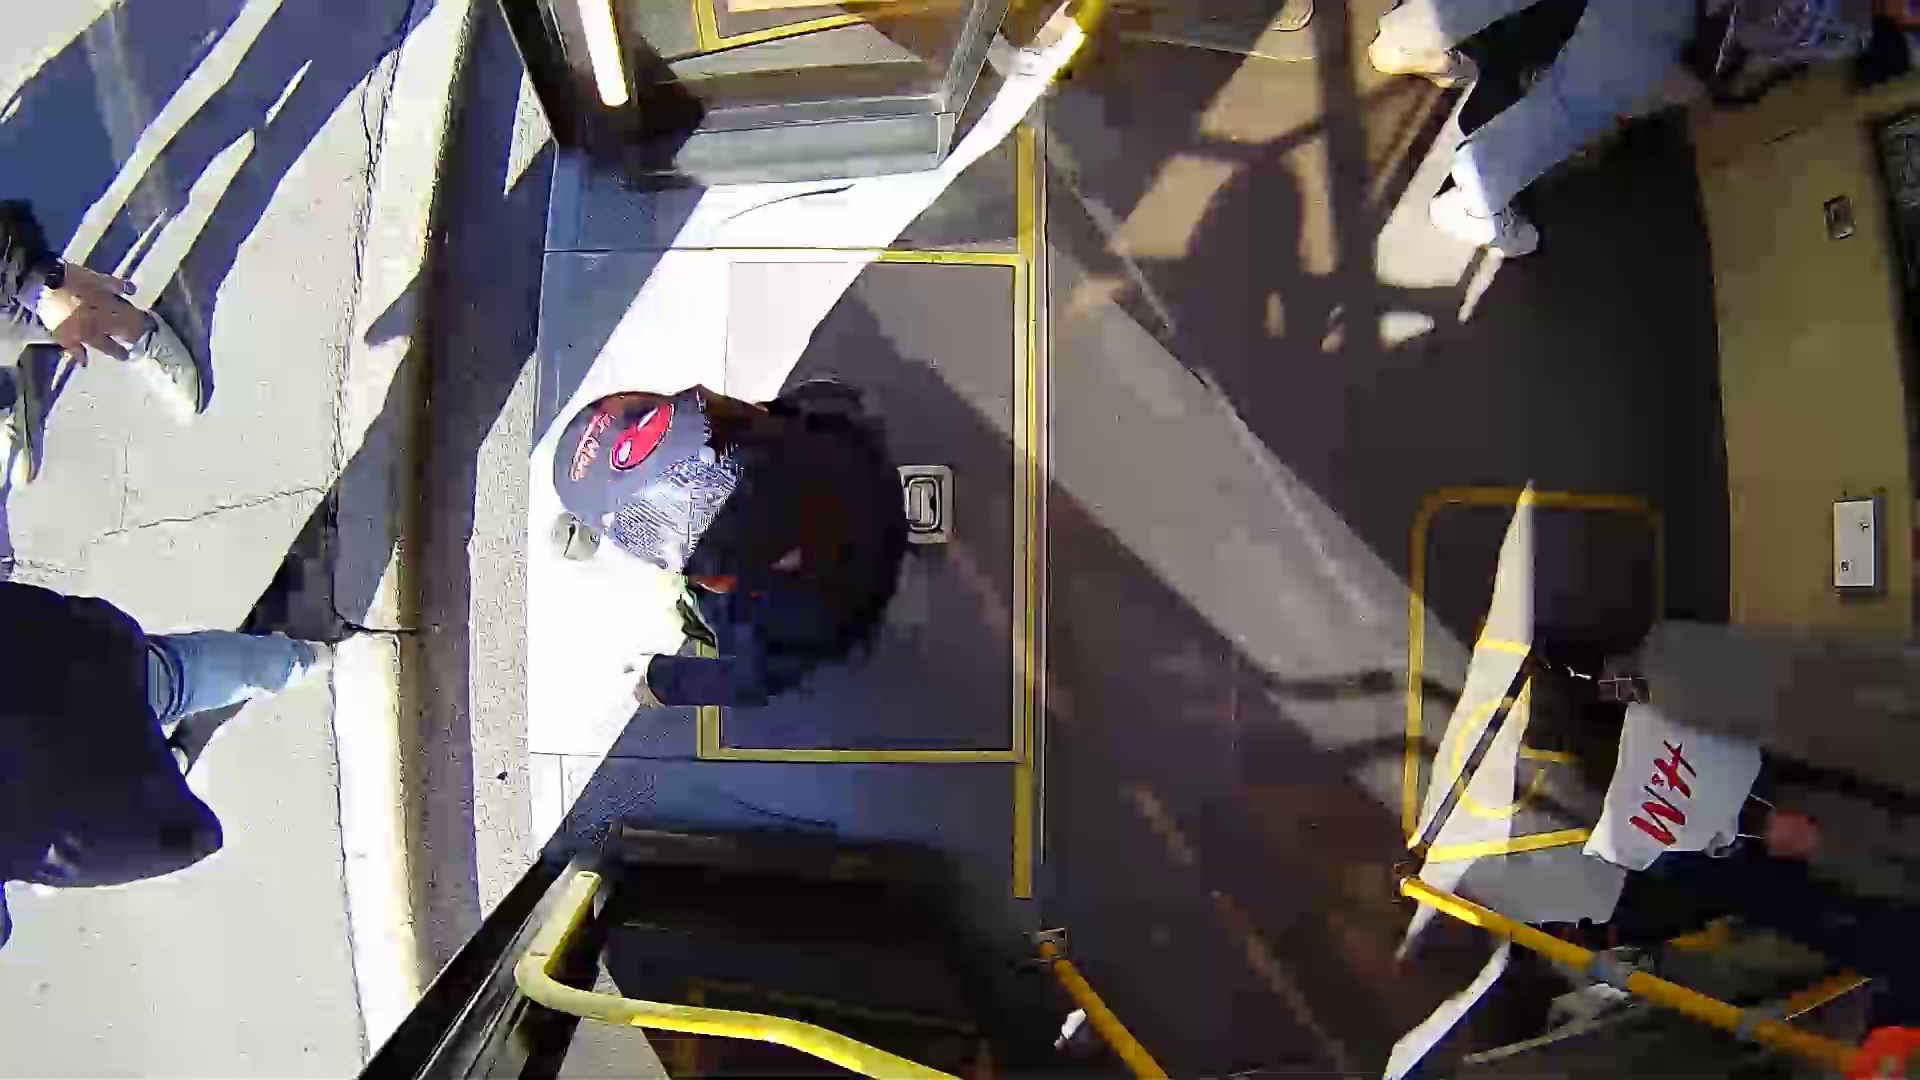person: (465, 340, 992, 741)
